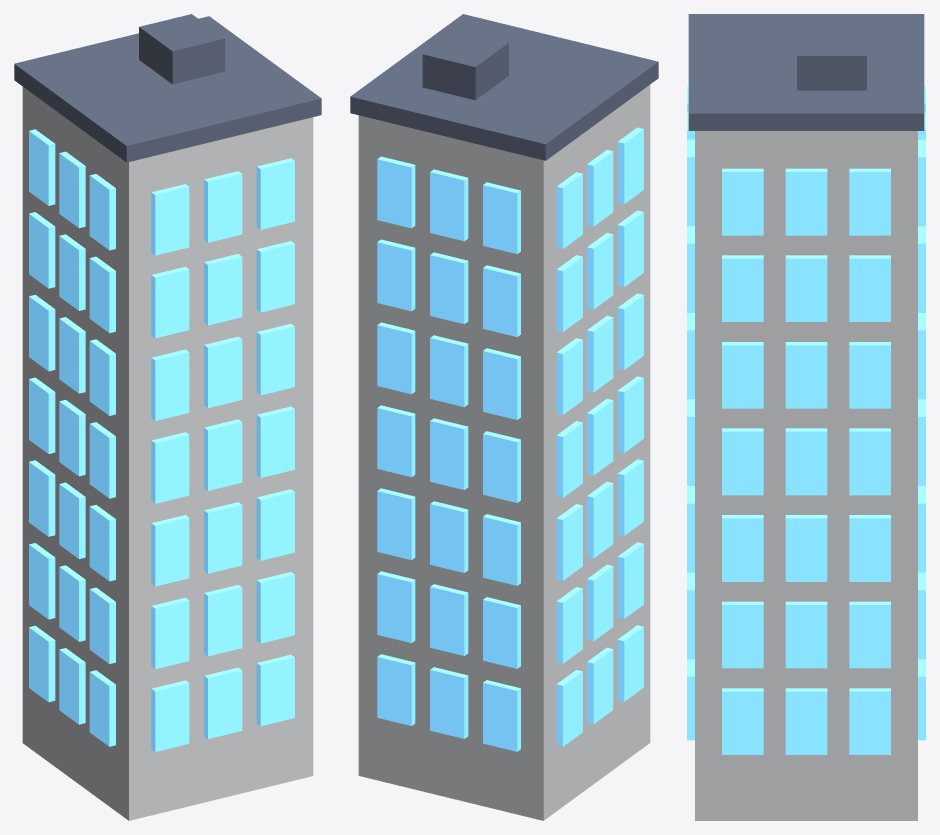
The model's file is residential_4.glb.
3 views of the same model, side by side, from view 1: azimuth 30°, elevation 25°; view 2: azimuth 150°, elevation 25°; view 3: azimuth 270°, elevation 25° (orthographic). The views are drawn at different scales.
Visible parts, largest first — view 1: residential_4; view 2: residential_4; view 3: residential_4.
Part boxes in pixels (<box>): residential_4: <box>14,14,321,820</box>; residential_4: <box>350,14,658,820</box>; residential_4: <box>687,14,925,820</box>.
Size of the model in its own units: 0.75 by 2.58 by 0.75.
